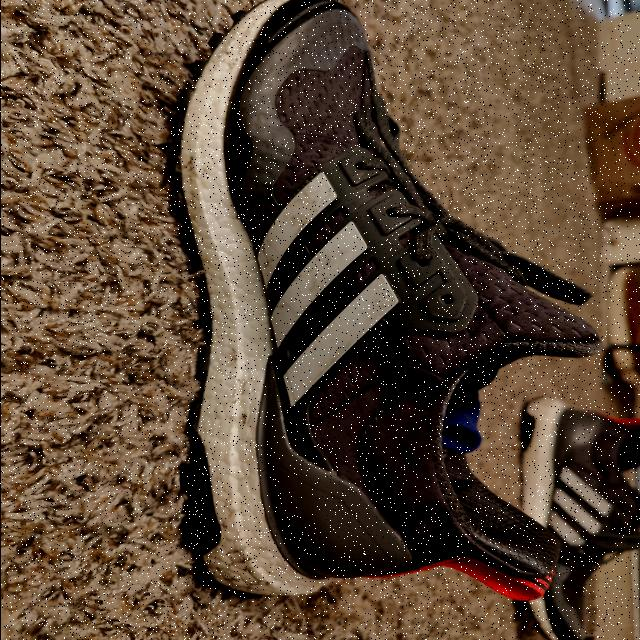black shoes: (179, 40, 596, 602)
